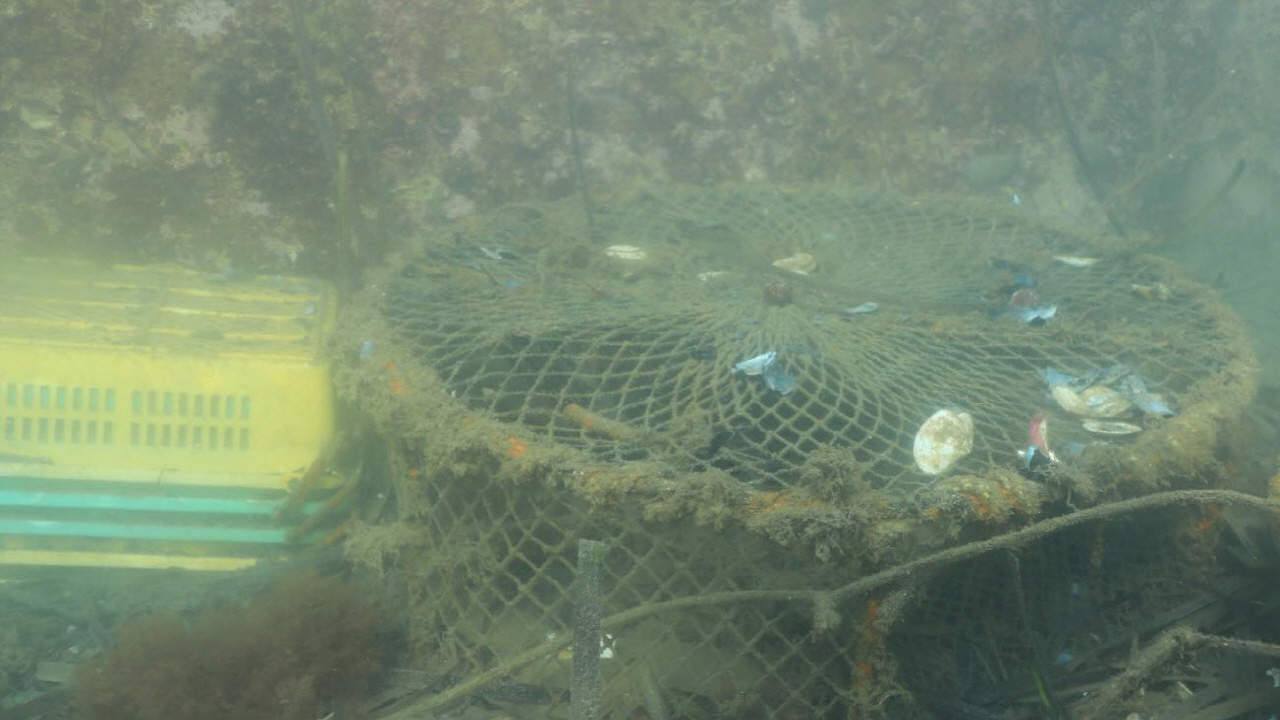circular fish trap: (334, 178, 1261, 711)
